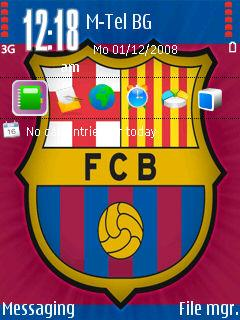BarcelonaFC: (14, 42, 230, 281)
